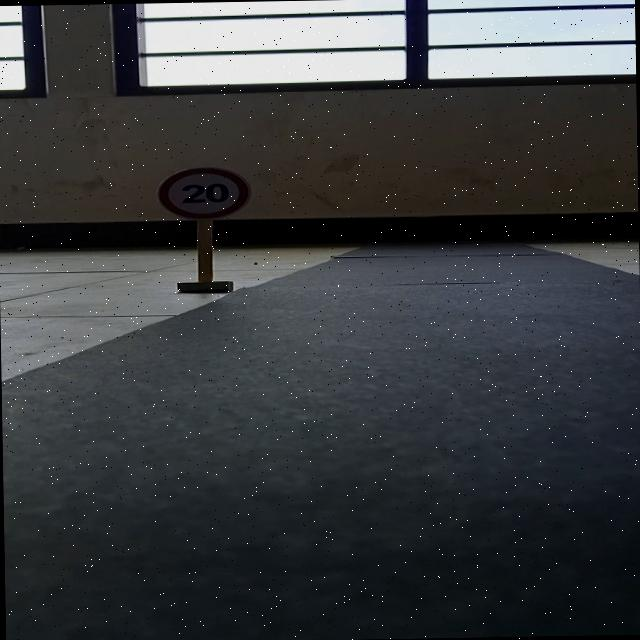Speed20: (147, 162, 260, 222)
